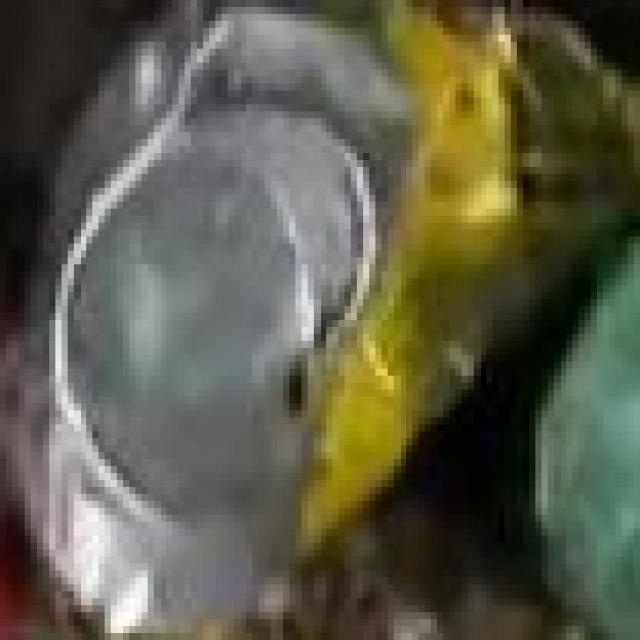can: (8, 1, 640, 630)
